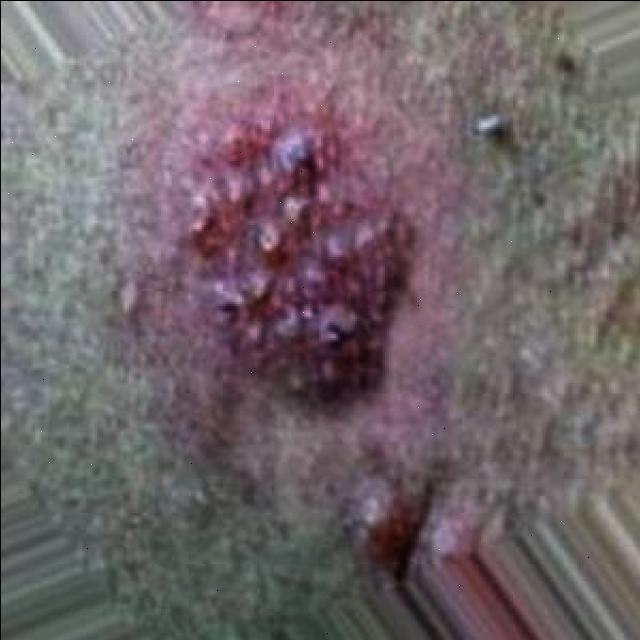Shingles: (188, 113, 418, 414)
